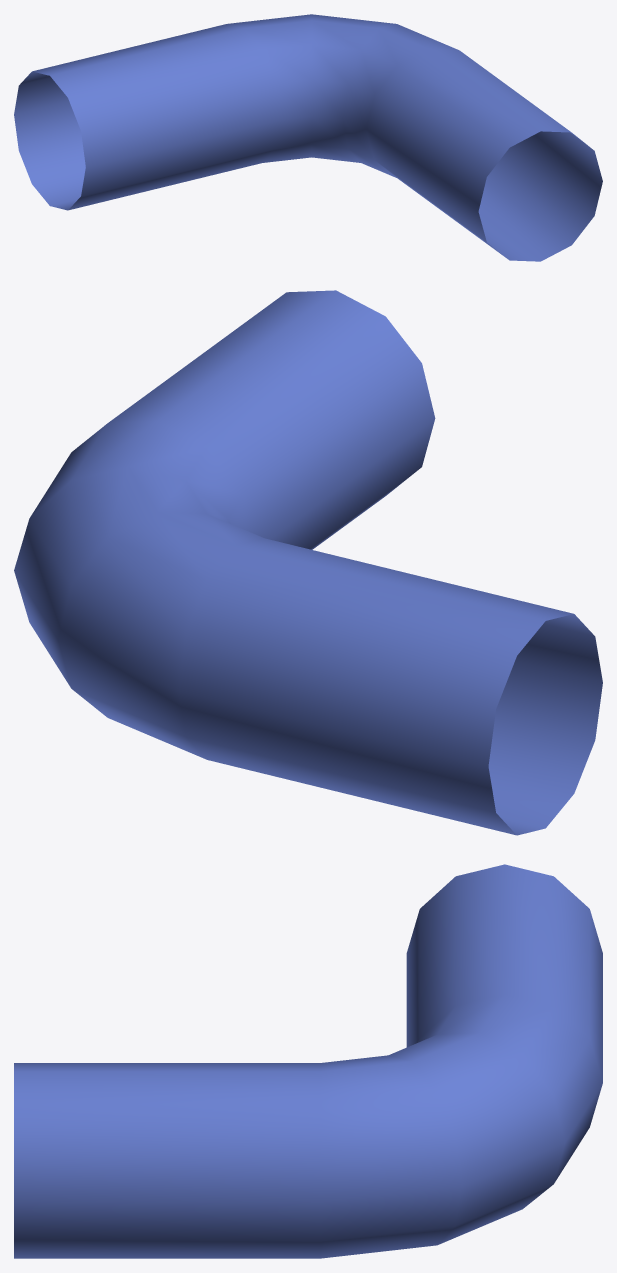
Rendered from pipe-angled.fbx.
The picture shows the model from 3 angles, top to bottom: view 1: azimuth 30°, elevation 25°; view 2: azimuth 150°, elevation 25°; view 3: azimuth 270°, elevation 25°; orthographic projection. The views are drawn at different scales.
Parts seen in each view (by area): view 1: Cylinder_021; view 2: Cylinder_021; view 3: Cylinder_021.
Boxes of the visible parts, box(x1,y1,x2,y2) form: Cylinder_021: box(14, 14, 602, 261); Cylinder_021: box(14, 290, 602, 835); Cylinder_021: box(14, 864, 602, 1258).
Size of the model in its own units: 1.2 by 0.4 by 1.2.
